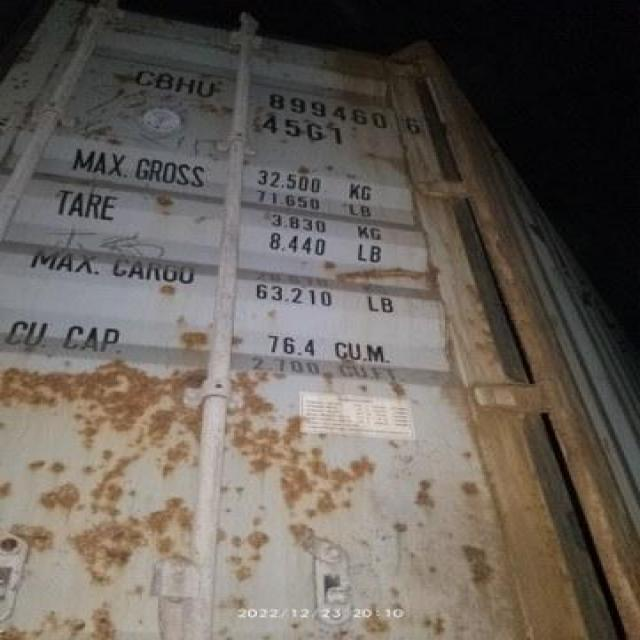ISO: (254, 116, 352, 150)
container_number: (130, 56, 436, 141)
